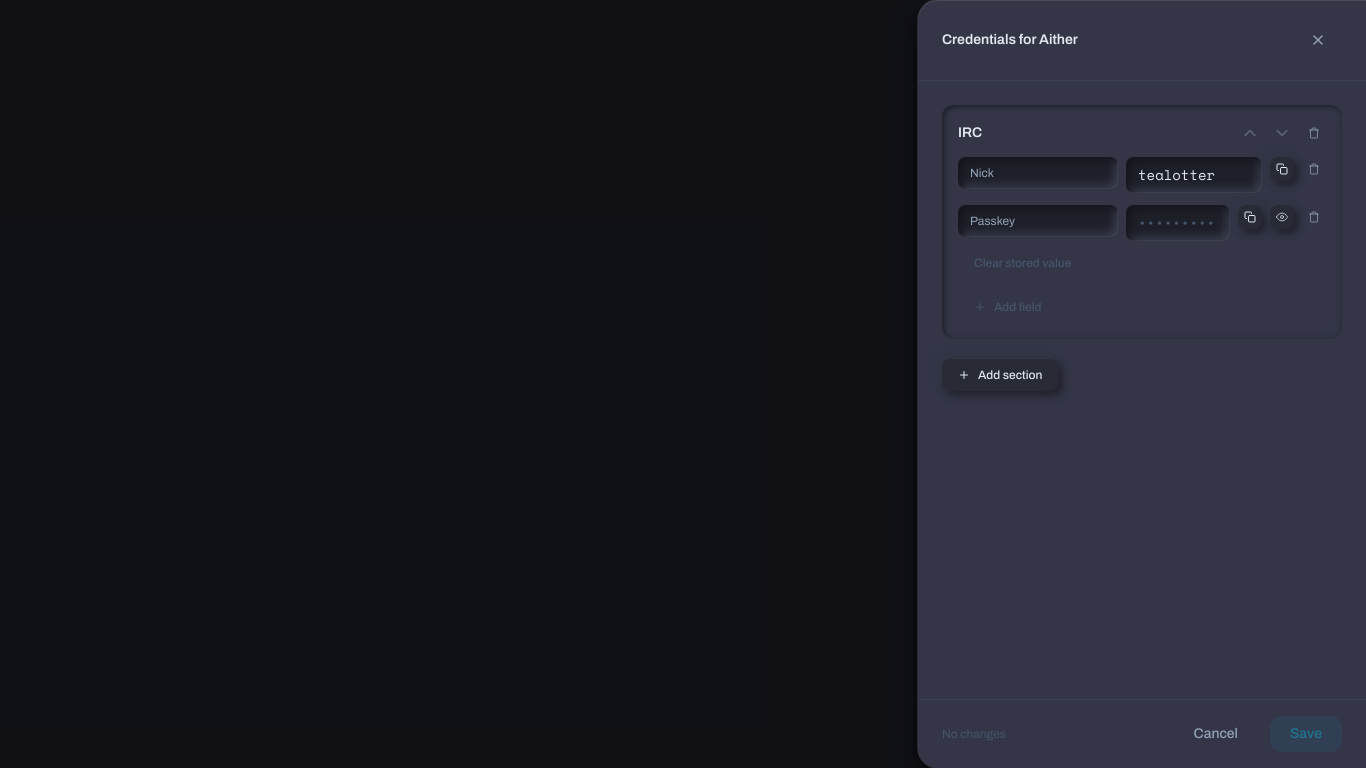
Scenario: copy works WITHOUT revealing › revealing and hiding again does not mark the form dirty
The width and height of the screenshot is (1366, 768).
Click the button named "Show Passkey" at (1282, 217), box [1270,205,1294,229]
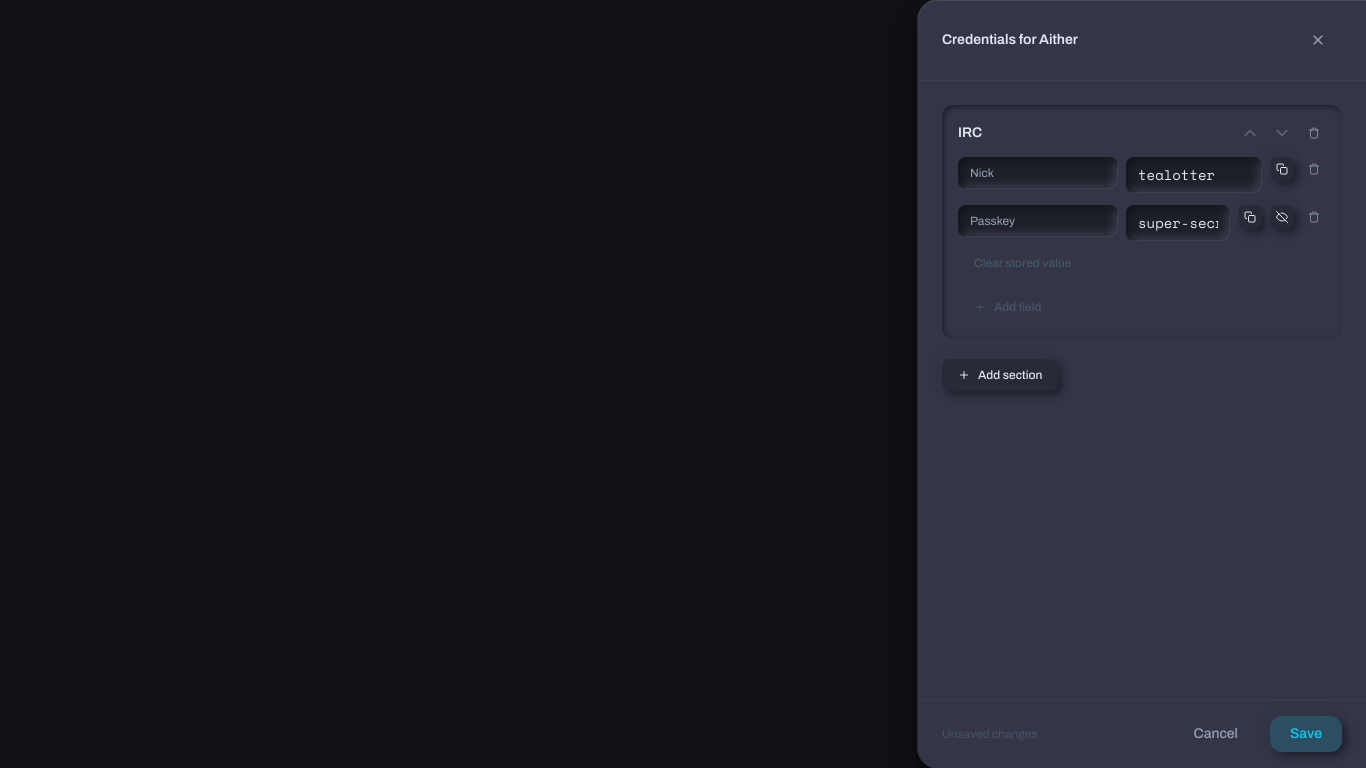
Expected: the button named "Hide Passkey" is shown
Click the button named "Hide Passkey" at (1282, 217), box [1270,205,1294,229]
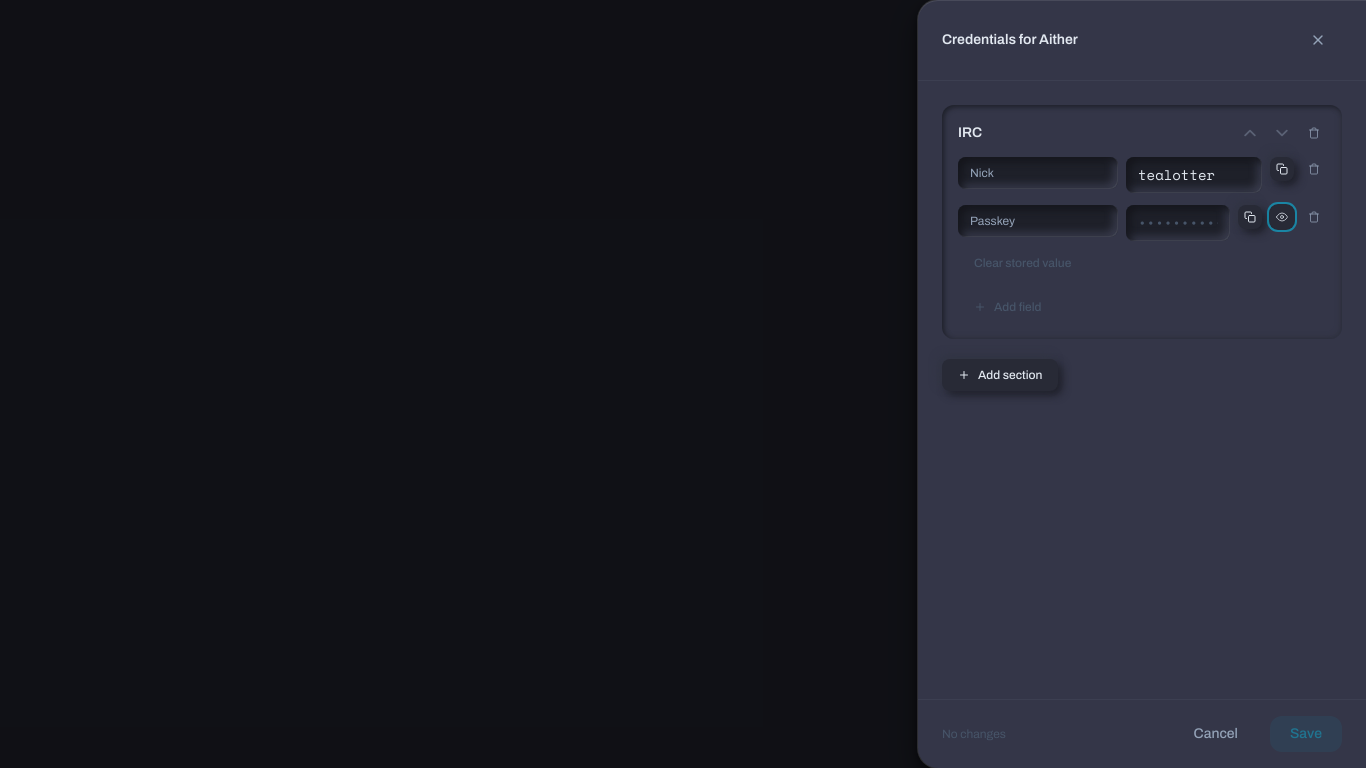
Expected: the button "Save" is disabled, [1270,716,1342,752]
